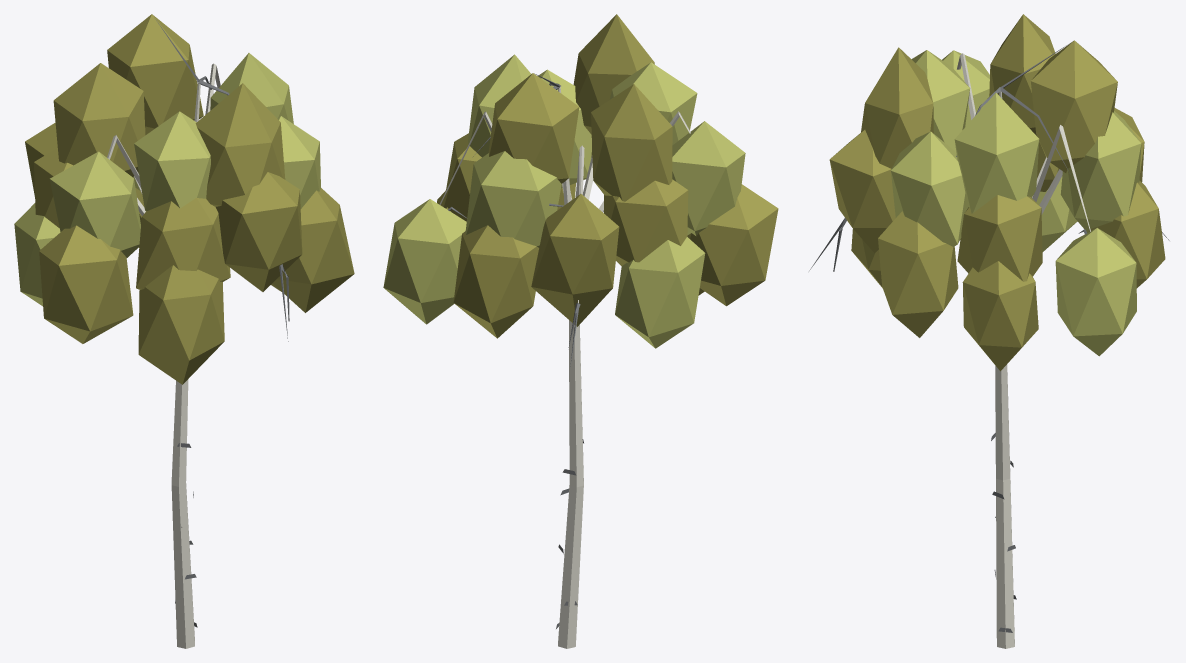
The model's file is birch_autumn_early_03.glb.
The picture shows the model from 3 angles, left to right: view 1: azimuth 30°, elevation 25°; view 2: azimuth 150°, elevation 25°; view 3: azimuth 270°, elevation 25°; orthographic projection.
Parts seen in each view (by area): view 1: Birch_autumn_early_03; view 2: Birch_autumn_early_03; view 3: Birch_autumn_early_03.
Boxes of the visible parts, bbox=[...] form: Birch_autumn_early_03: bbox=[14, 14, 354, 648]; Birch_autumn_early_03: bbox=[383, 14, 778, 648]; Birch_autumn_early_03: bbox=[809, 14, 1169, 648].
Size of the model in its own units: 8.5 by 16.03 by 8.75.
